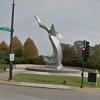Statue: (27, 9, 84, 85)
